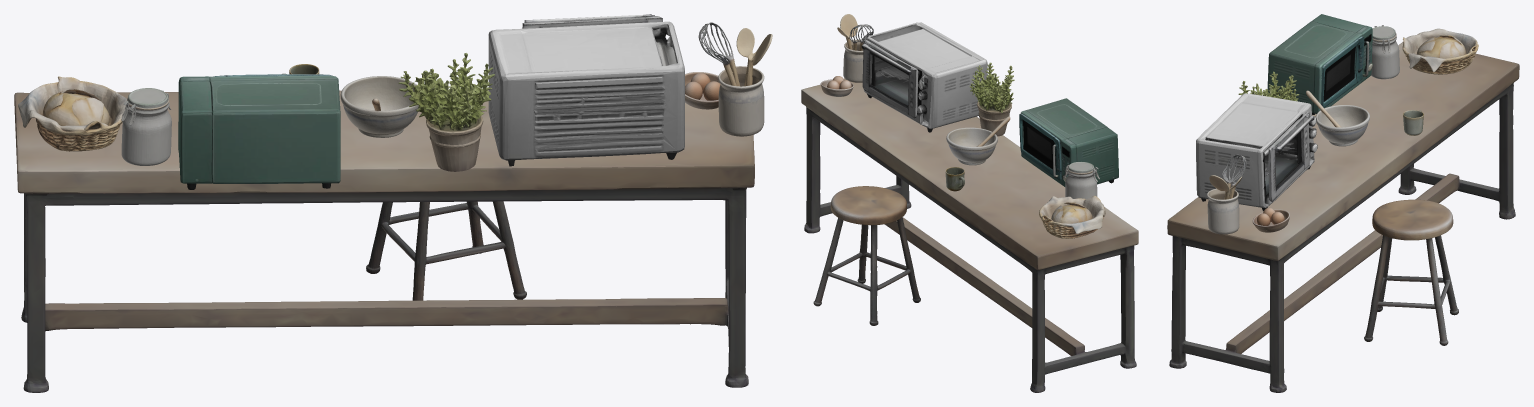
3 renders of one model, left to right at view 1: azimuth 30°, elevation 25°; view 2: azimuth 150°, elevation 25°; view 3: azimuth 270°, elevation 25°, orthographic. The views are drawn at different scales.
Parts seen in each view (by area): view 1: obj_2_part_0, obj_0_part_0, obj_1_part_0, obj_7_part_0, obj_4_part_0, obj_3_part_0, obj_10_part_0, obj_5_part_0, obj_9_part_0, obj_0_part_1, obj_11_part_0; view 2: obj_2_part_0, obj_0_part_0, obj_3_part_0, obj_1_part_0, obj_4_part_0, obj_7_part_0, obj_0_part_1, obj_1_part_1, obj_5_part_0, obj_10_part_0, obj_9_part_0, obj_11_part_0 (+1 smaller); view 3: obj_2_part_0, obj_0_part_0, obj_3_part_0, obj_1_part_0, obj_4_part_0, obj_1_part_1, obj_10_part_0, obj_5_part_0, obj_0_part_1, obj_9_part_0, obj_7_part_0, obj_11_part_0 (+1 smaller).
Boxes of the visible parts, bbox=[...] form: obj_2_part_0: bbox=[14, 90, 754, 392]; obj_0_part_0: bbox=[488, 21, 684, 166]; obj_1_part_0: bbox=[178, 76, 340, 189]; obj_7_part_0: bbox=[398, 53, 494, 171]; obj_4_part_0: bbox=[18, 76, 126, 151]; obj_3_part_0: bbox=[366, 201, 526, 300]; obj_10_part_0: bbox=[698, 22, 772, 136]; obj_5_part_0: bbox=[340, 76, 418, 137]; obj_9_part_0: bbox=[121, 88, 171, 165]; obj_0_part_1: bbox=[522, 14, 662, 29]; obj_11_part_0: bbox=[685, 72, 720, 109]; obj_2_part_0: bbox=[801, 78, 1138, 392]; obj_0_part_0: bbox=[863, 22, 987, 132]; obj_3_part_0: bbox=[813, 186, 920, 325]; obj_1_part_0: bbox=[1020, 98, 1118, 186]; obj_4_part_0: bbox=[1039, 195, 1105, 238]; obj_7_part_0: bbox=[969, 62, 1014, 136]; obj_0_part_1: bbox=[861, 40, 918, 118]; obj_1_part_1: bbox=[1019, 113, 1061, 180]; obj_5_part_0: bbox=[946, 116, 1010, 165]; obj_10_part_0: bbox=[837, 14, 873, 82]; obj_9_part_0: bbox=[1063, 162, 1099, 198]; obj_11_part_0: bbox=[820, 76, 853, 96]; obj_2_part_0: bbox=[1167, 41, 1519, 392]; obj_0_part_0: bbox=[1196, 93, 1317, 210]; obj_3_part_0: bbox=[1364, 199, 1458, 345]; obj_1_part_0: bbox=[1267, 14, 1372, 114]; obj_4_part_0: bbox=[1402, 28, 1478, 74]; obj_1_part_1: bbox=[1321, 36, 1368, 107]; obj_10_part_0: bbox=[1207, 154, 1246, 234]; obj_5_part_0: bbox=[1306, 90, 1369, 146]; obj_0_part_1: bbox=[1268, 112, 1314, 201]; obj_9_part_0: bbox=[1371, 25, 1399, 79]; obj_7_part_0: bbox=[1238, 71, 1299, 101]; obj_11_part_0: bbox=[1252, 207, 1289, 232].
Bounding box in the file's own units: 1.75 × 0.8471 × 1.24.
5 materials, 4 textured.
